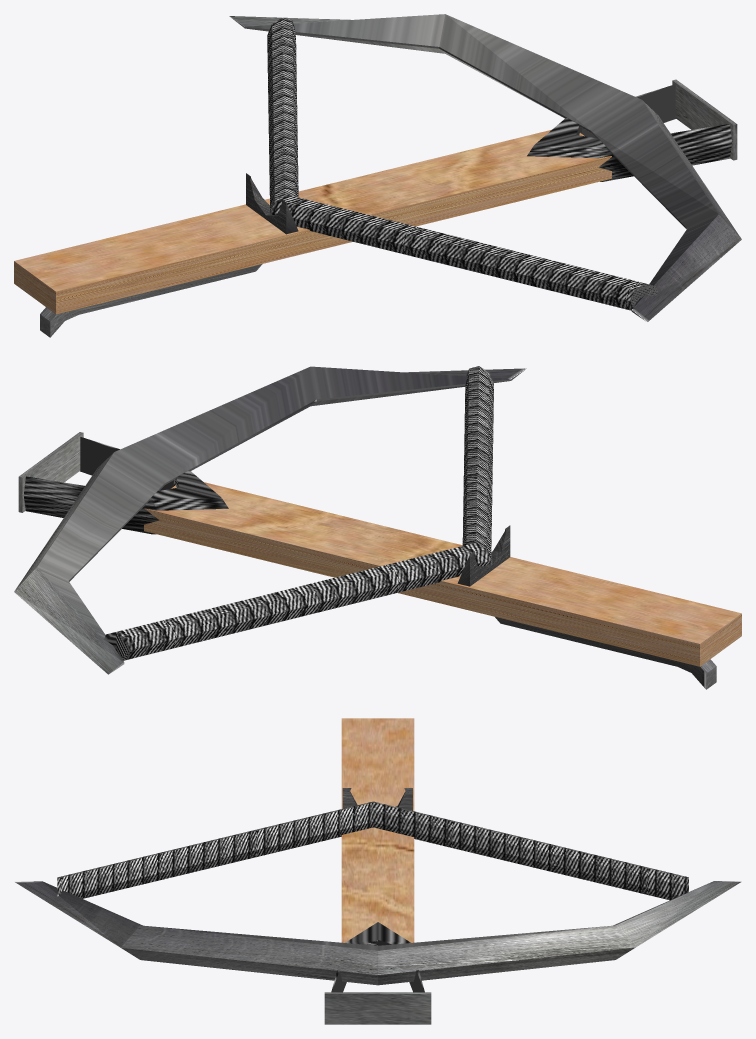
File: Crossbow20.obj
The picture shows the model from 3 angles, top to bottom: view 1: azimuth 30°, elevation 25°; view 2: azimuth 150°, elevation 25°; view 3: azimuth 270°, elevation 25°; orthographic projection. The views are drawn at different scales.
Visible parts, largest first — view 1: Sphere.002, Sphere.001, Sphere; view 2: Sphere.002, Sphere.001, Sphere; view 3: Sphere.001, Sphere, Sphere.002.
Part boxes in pixels (box(x1,y1,x2,y2)): Sphere.002: box(14, 129, 611, 314); Sphere.001: box(40, 14, 741, 337); Sphere: box(267, 17, 731, 310); Sphere.002: box(144, 482, 741, 666); Sphere.001: box(14, 366, 716, 689); Sphere: box(23, 366, 493, 660); Sphere.001: box(14, 788, 741, 1024); Sphere: box(57, 801, 688, 992); Sphere.002: box(341, 718, 414, 942).
Bounding box in the file's own units: 4.67 × 0.6142 × 5.04.
